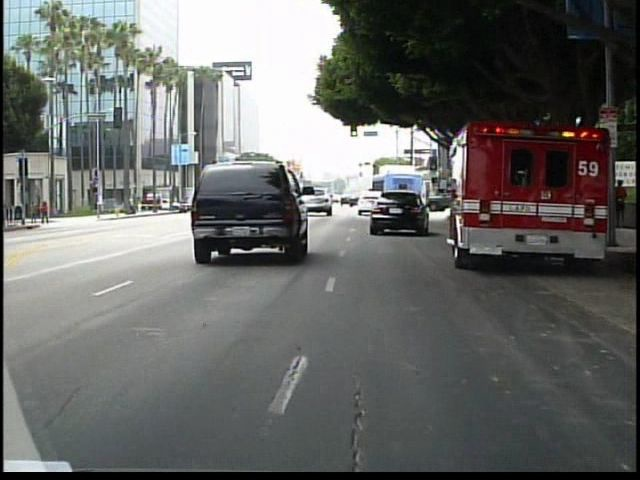person: (610, 176, 629, 230), (40, 199, 54, 228), (28, 200, 40, 228)
